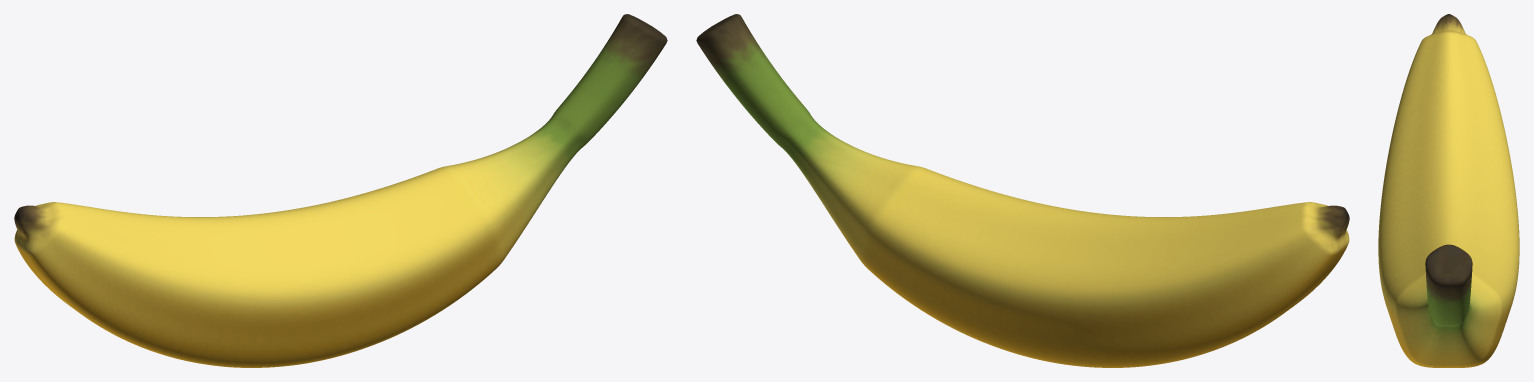
Rendered from banana.glb.
3 renders of one model, left to right at view 1: azimuth 30°, elevation 25°; view 2: azimuth 150°, elevation 25°; view 3: azimuth 270°, elevation 25°, orthographic. The views are drawn at different scales.
Visible parts, largest first — view 1: BananaLow; view 2: BananaLow; view 3: BananaLow.
Boxes of the visible parts, x1,y1,x2,y2 form: BananaLow: [14, 14, 667, 367]; BananaLow: [696, 14, 1349, 367]; BananaLow: [1378, 14, 1519, 367].
Size of the model in its own units: 2.17 by 0.8086 by 0.4513.
Materials: 1 (1 with a texture image).
